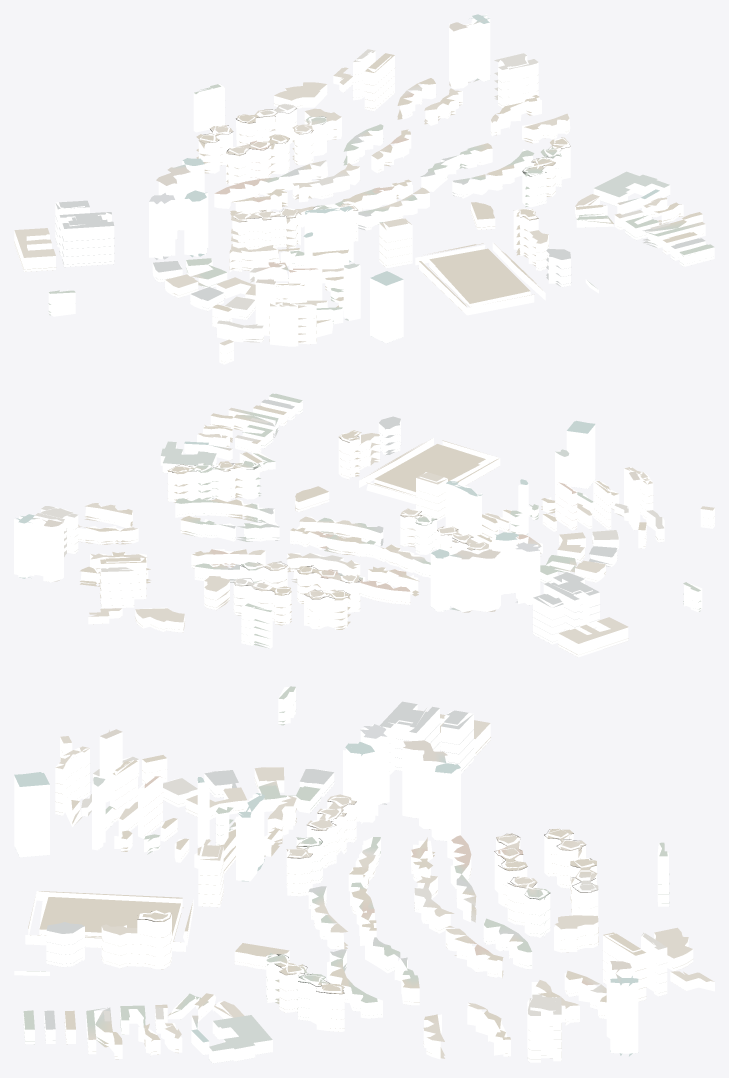
File: buildings-0_3-coarse.glb
3 renders of one model, top to bottom at view 1: azimuth 30°, elevation 25°; view 2: azimuth 150°, elevation 25°; view 3: azimuth 270°, elevation 25°, orthographic. The views are drawn at different scales.
Parts seen in each view (by area): view 1: block_0_3_residential, block_0_3_roof, block_0_3_office; view 2: block_0_3_residential, block_0_3_roof, block_0_3_office, block_0_3_concrete; view 3: block_0_3_residential, block_0_3_roof, block_0_3_office, block_0_3_concrete.
Part boxes in pixels (x1,y1,x2,y2): block_0_3_residential: (14,51,714,364); block_0_3_roof: (14,14,714,345); block_0_3_office: (149,14,670,343); block_0_3_residential: (35,396,714,657); block_0_3_roof: (16,393,714,654); block_0_3_office: (14,425,640,612); block_0_3_concrete: (168,436,474,599); block_0_3_residential: (14,687,714,1062); block_0_3_roof: (14,686,714,1063); block_0_3_office: (14,724,638,1063); block_0_3_concrete: (137,801,597,994).
Bounding box in the file's own units: 641 × 64.37 × 541.
